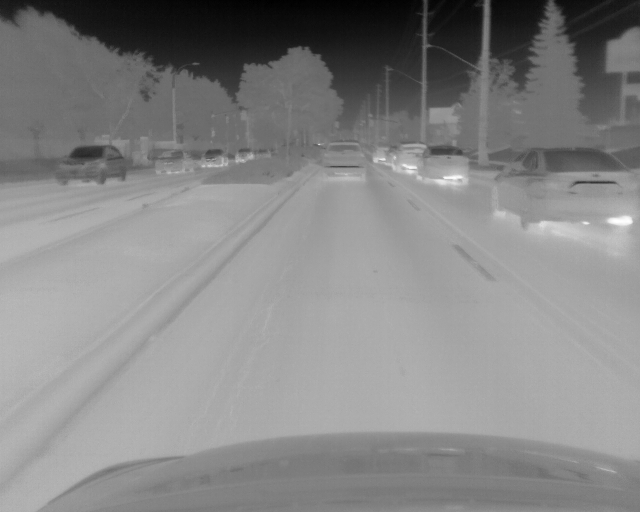car: (488, 147, 640, 233), (54, 144, 127, 186), (416, 143, 469, 183), (323, 142, 365, 180), (155, 149, 195, 176), (388, 143, 423, 173), (201, 149, 228, 168), (236, 147, 251, 164), (372, 142, 385, 160)
